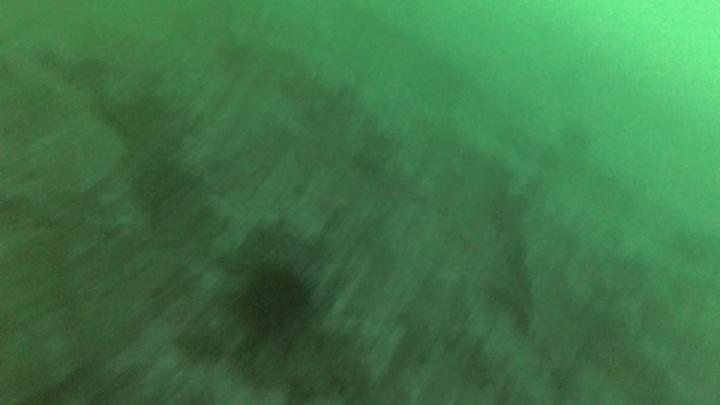echinus: (235, 259, 310, 343)
